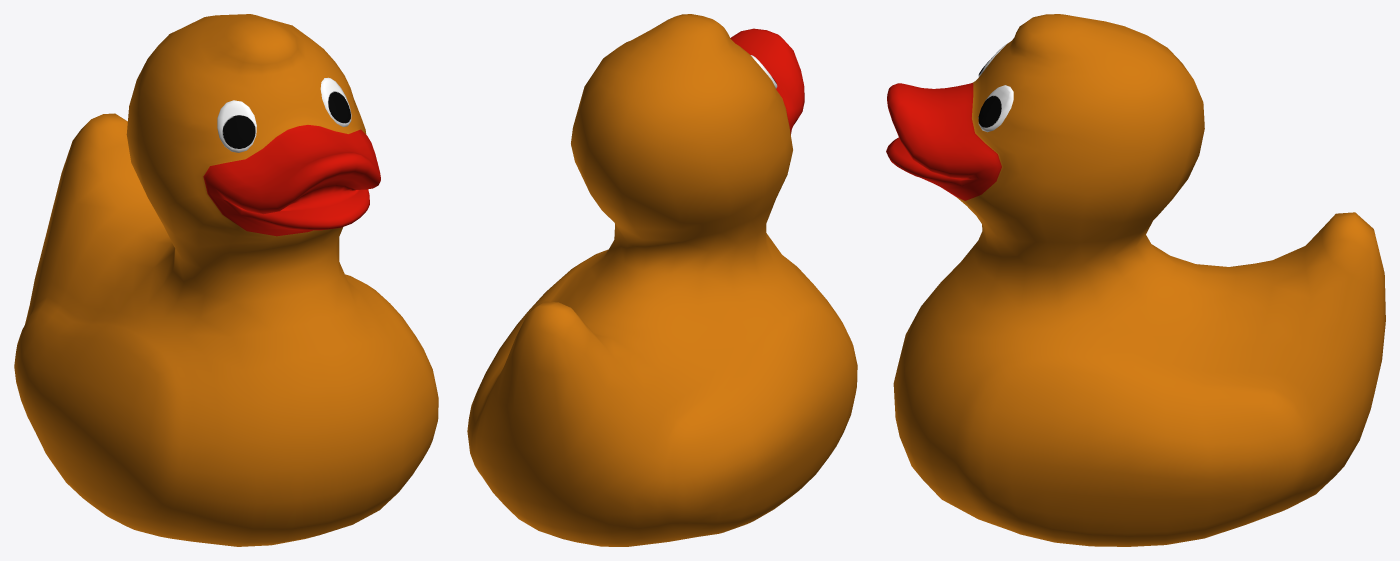
Rendered from rubber-duck.glb.
3 views of the same model, side by side, from view 1: azimuth 30°, elevation 25°; view 2: azimuth 150°, elevation 25°; view 3: azimuth 270°, elevation 25° (orthographic). The views are drawn at different scales.
Parts seen in each view (by area): view 1: Rubber Duck, Rubber Duck Eyes; view 2: Rubber Duck; view 3: Rubber Duck, Rubber Duck Eyes.
Boxes of the visible parts, bbox=[...] form: Rubber Duck: bbox=[14, 14, 438, 546]; Rubber Duck Eyes: bbox=[217, 77, 351, 152]; Rubber Duck: bbox=[467, 14, 857, 546]; Rubber Duck: bbox=[886, 14, 1385, 546]; Rubber Duck Eyes: bbox=[978, 44, 1013, 132].
Bounding box in the file's own units: 0.6895 × 0.9997 × 0.9438.
Materials: 3 (1 with a texture image).
